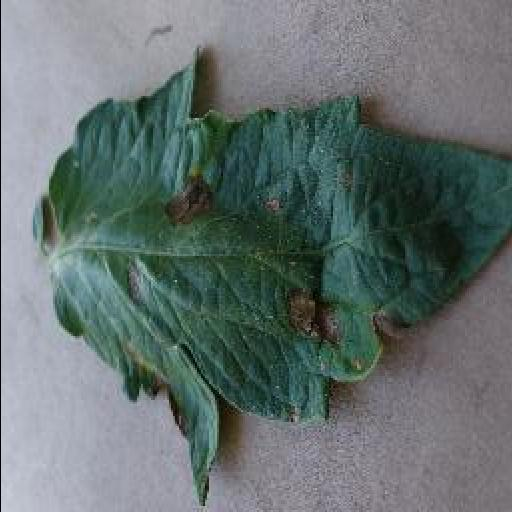disease_tomato: (28, 47, 510, 508)
